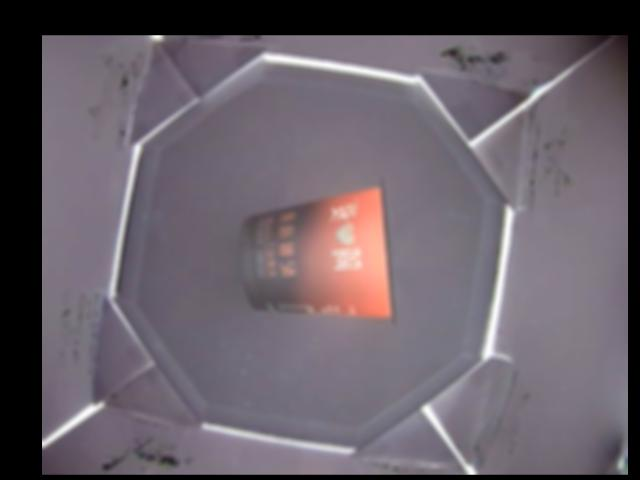Cup: (241, 180, 400, 321)
